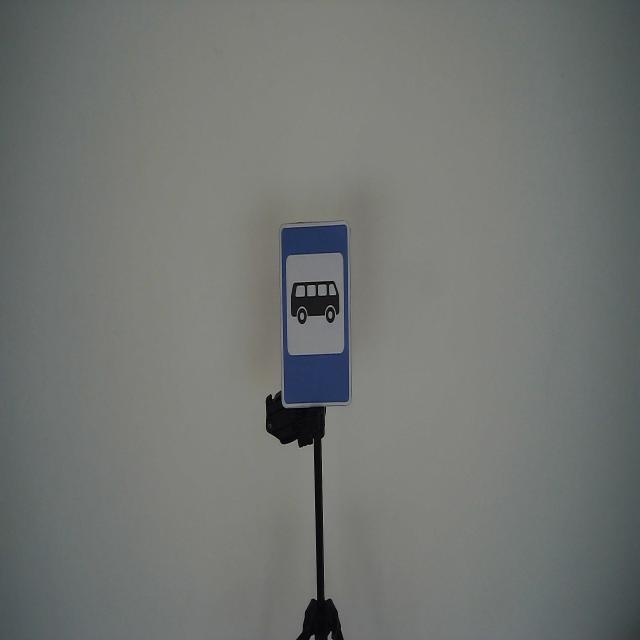bus_stop: (278, 220, 354, 410)
